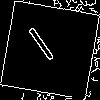I: (25, 25, 63, 71)
